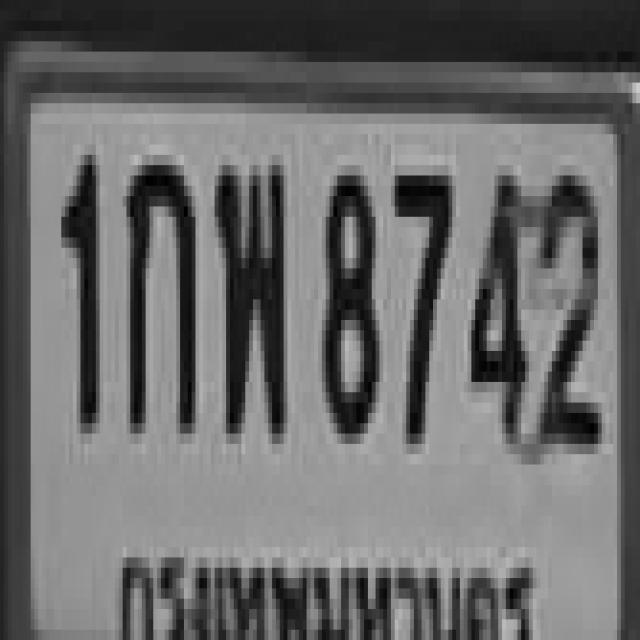1: (57, 145, 96, 423)
10GorGai: (122, 155, 192, 423)
2: (533, 165, 594, 444)
39PhorPan: (210, 155, 284, 433)
4: (468, 165, 521, 434)
7: (391, 165, 448, 434)
8: (318, 165, 376, 434)
Bangkok: (108, 520, 548, 640)
